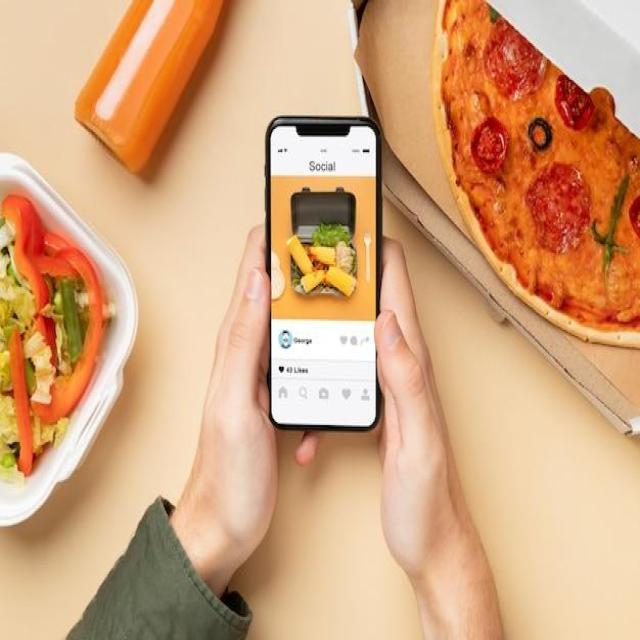basil: (594, 174, 630, 290)
olive: (526, 118, 555, 152)
pepperoni: (482, 16, 548, 102), (527, 159, 588, 251)
pizza: (434, 0, 640, 348)
